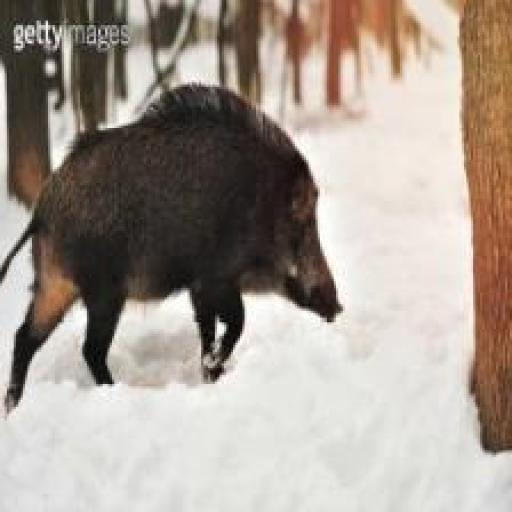Pig: (0, 76, 353, 412)
